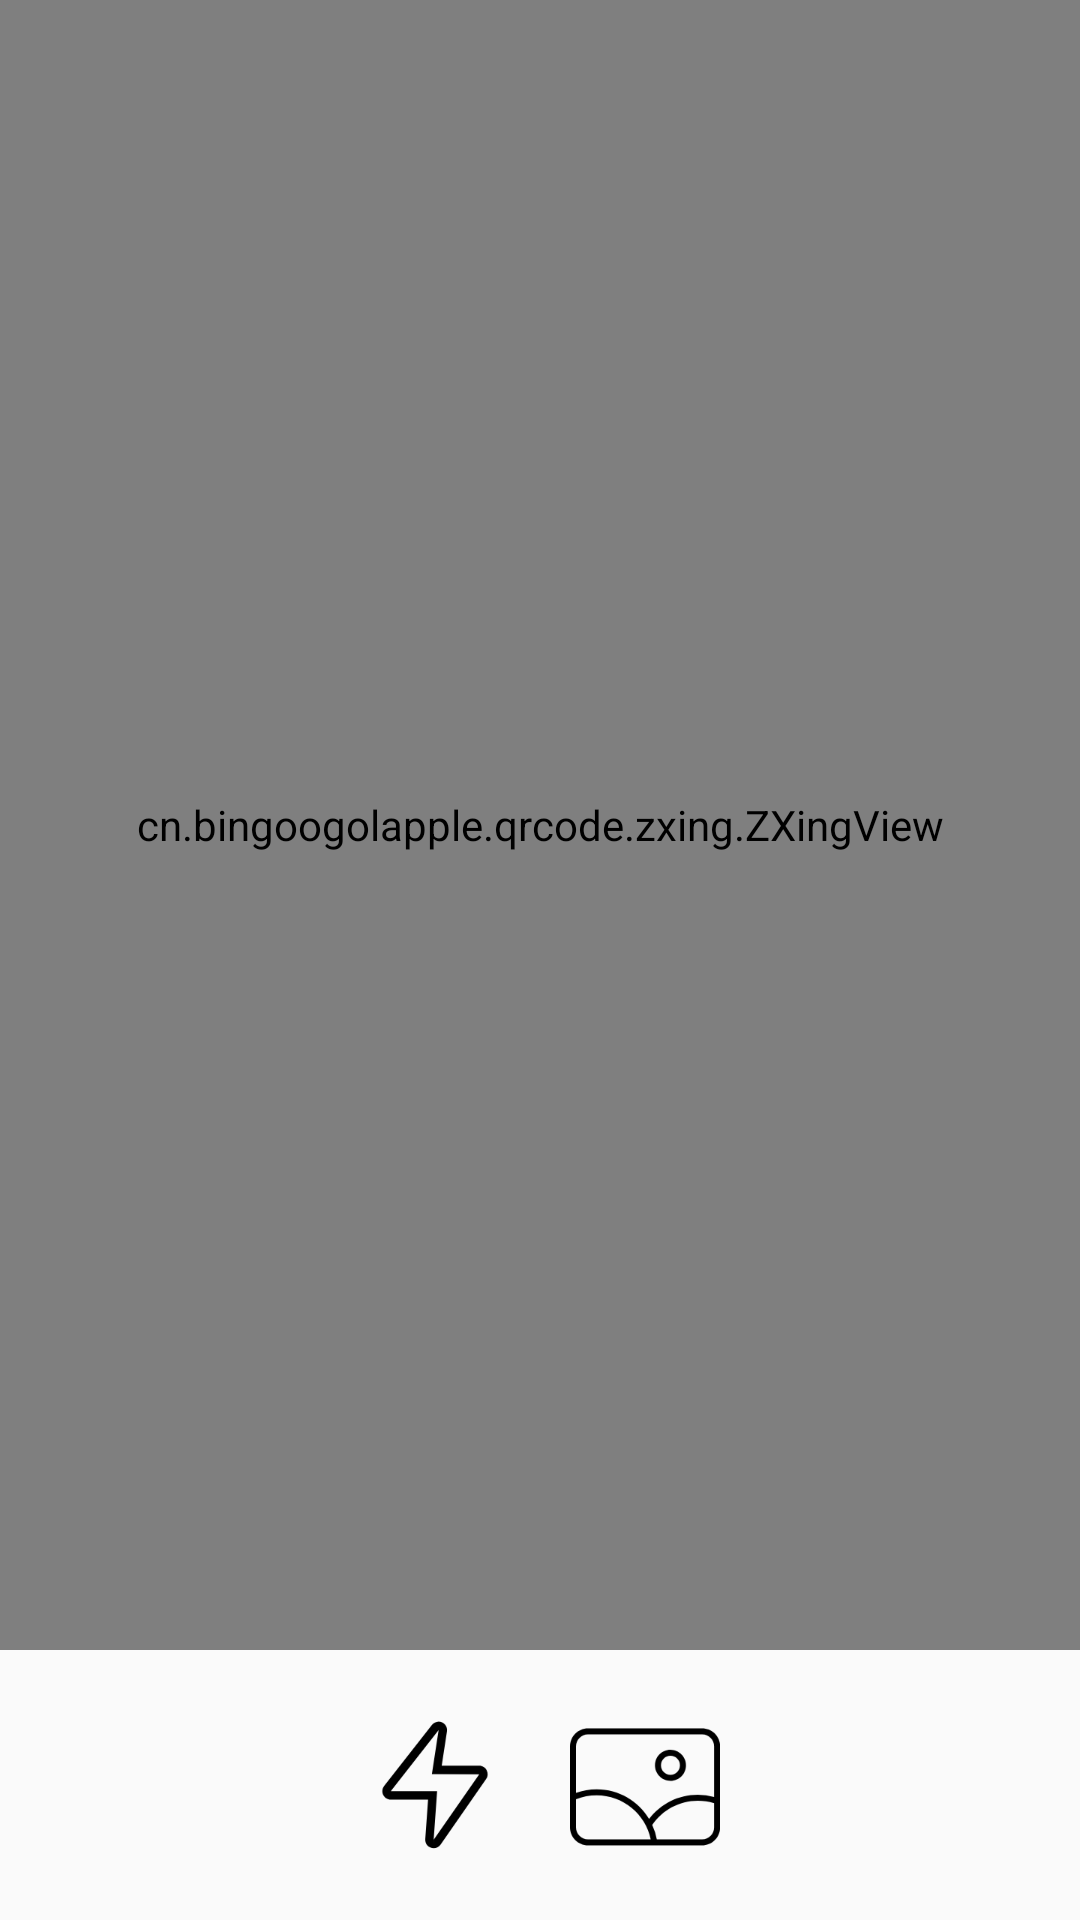

Icons on this 1080 × 1920 Android screen, each with its box as (left=x1, top=y1, right=x2, bottom=y2):
flash: (left=382, top=1721, right=488, bottom=1849)
photo: (left=570, top=1728, right=720, bottom=1846)
